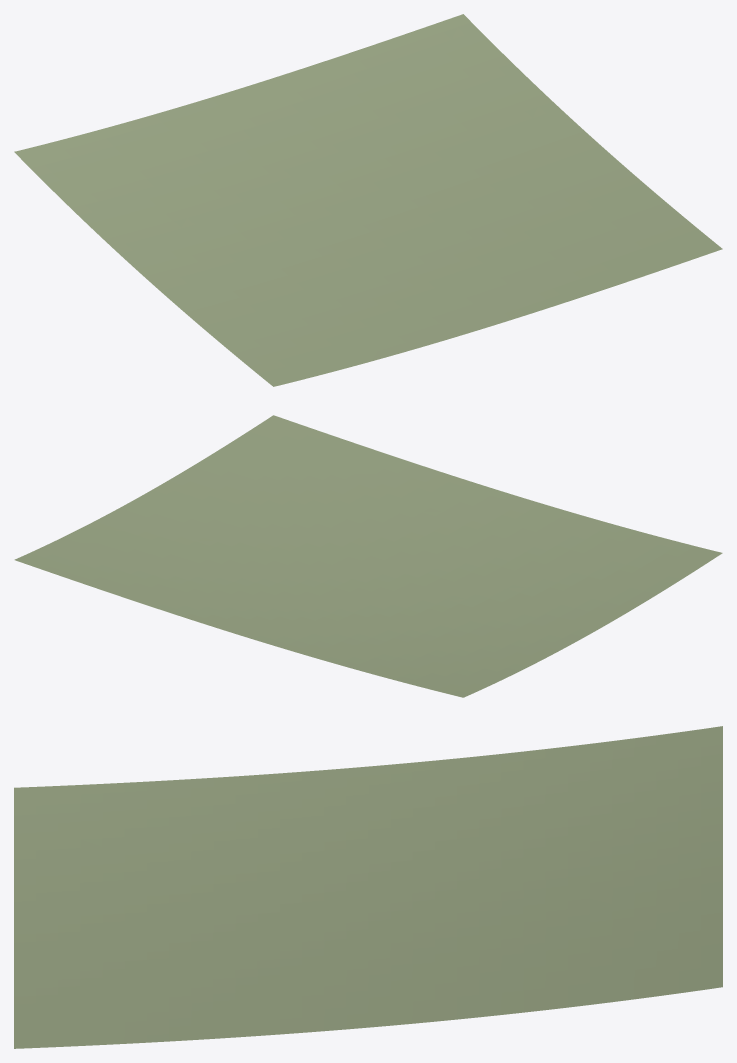
Rendered from valley-0-3.glb.
3 views of the same model, one above another, from view 1: azimuth 30°, elevation 25°; view 2: azimuth 150°, elevation 25°; view 3: azimuth 270°, elevation 25° (orthographic). The views are drawn at different scales.
Visible parts, largest first — view 1: valley-0-3; view 2: valley-0-3; view 3: valley-0-3.
Part boxes in pixels (<box>): valley-0-3: <box>14,14,722,386</box>; valley-0-3: <box>14,415,722,697</box>; valley-0-3: <box>14,726,722,1048</box>.
Size of the model in its own units: 256 by 39.91 by 256.
